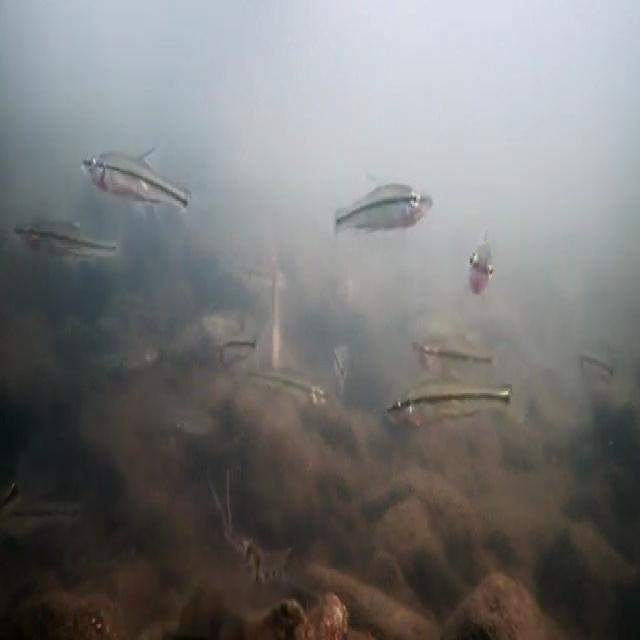Cakil Baligi: (82, 142, 202, 224), (334, 167, 436, 257), (382, 380, 530, 442)
